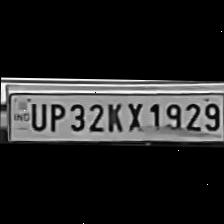1: (142, 99, 162, 130)
2: (85, 99, 105, 132), (180, 99, 200, 132)
3: (66, 99, 86, 132)
9: (160, 99, 182, 131), (200, 96, 220, 130)
K: (102, 100, 124, 132)
P: (44, 100, 66, 132)
U: (24, 100, 46, 132)
X: (122, 98, 144, 132)
